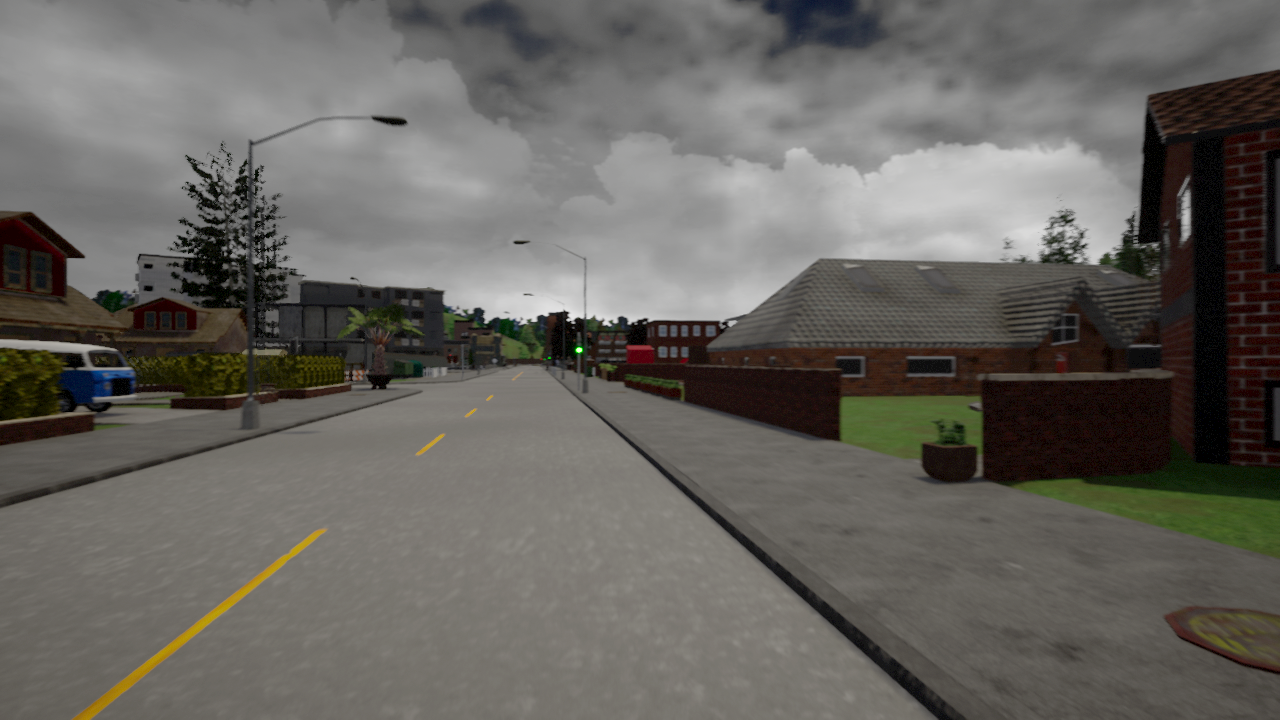green: (574, 335, 583, 354)
